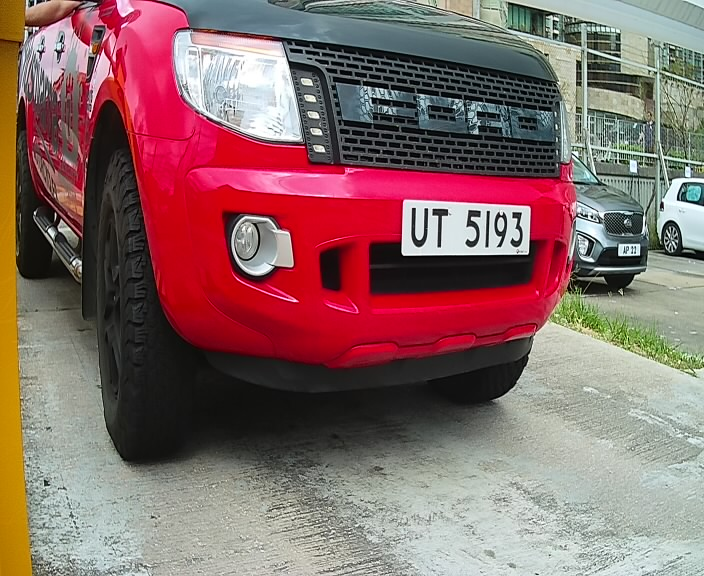Car: (50, 2, 623, 452)
License Plate: (392, 193, 542, 278)
